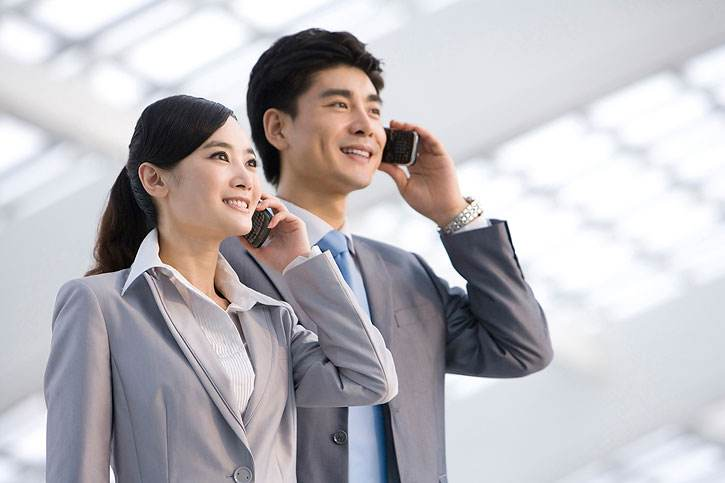calling: (372, 114, 459, 215), (235, 188, 310, 268)
